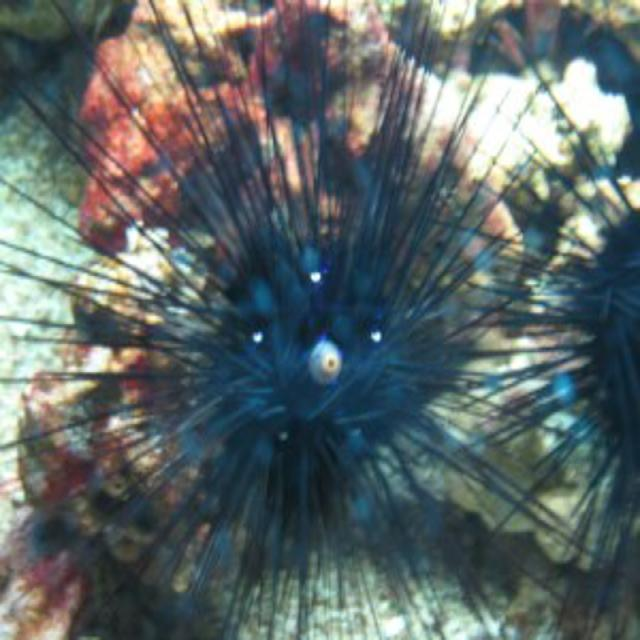Urchin: (17, 11, 526, 617)
